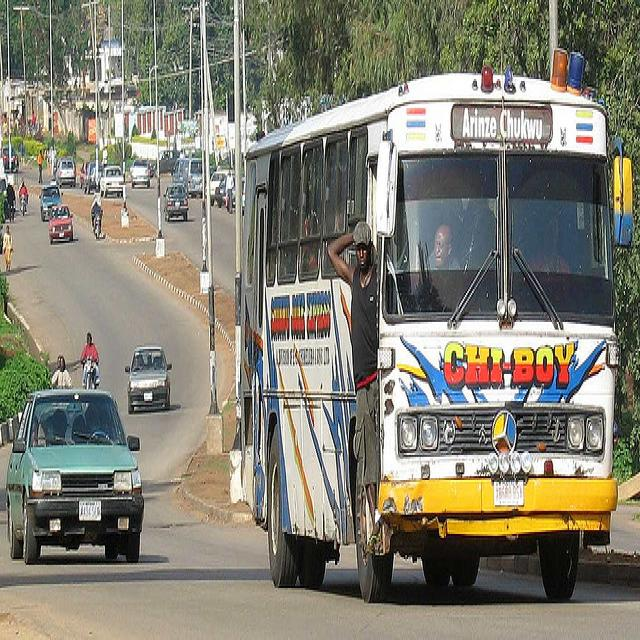motor: (82, 355, 99, 390), (93, 208, 102, 241), (51, 378, 72, 390), (20, 196, 28, 216)
